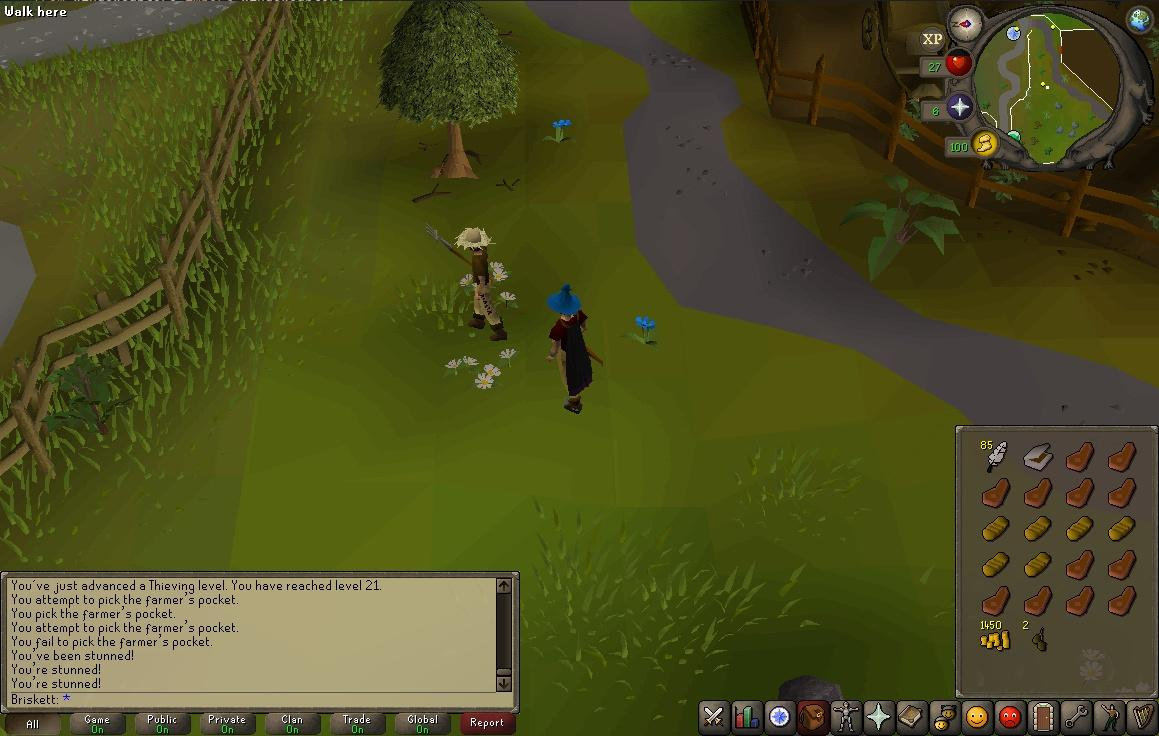Farmer: (425, 224, 510, 342)
